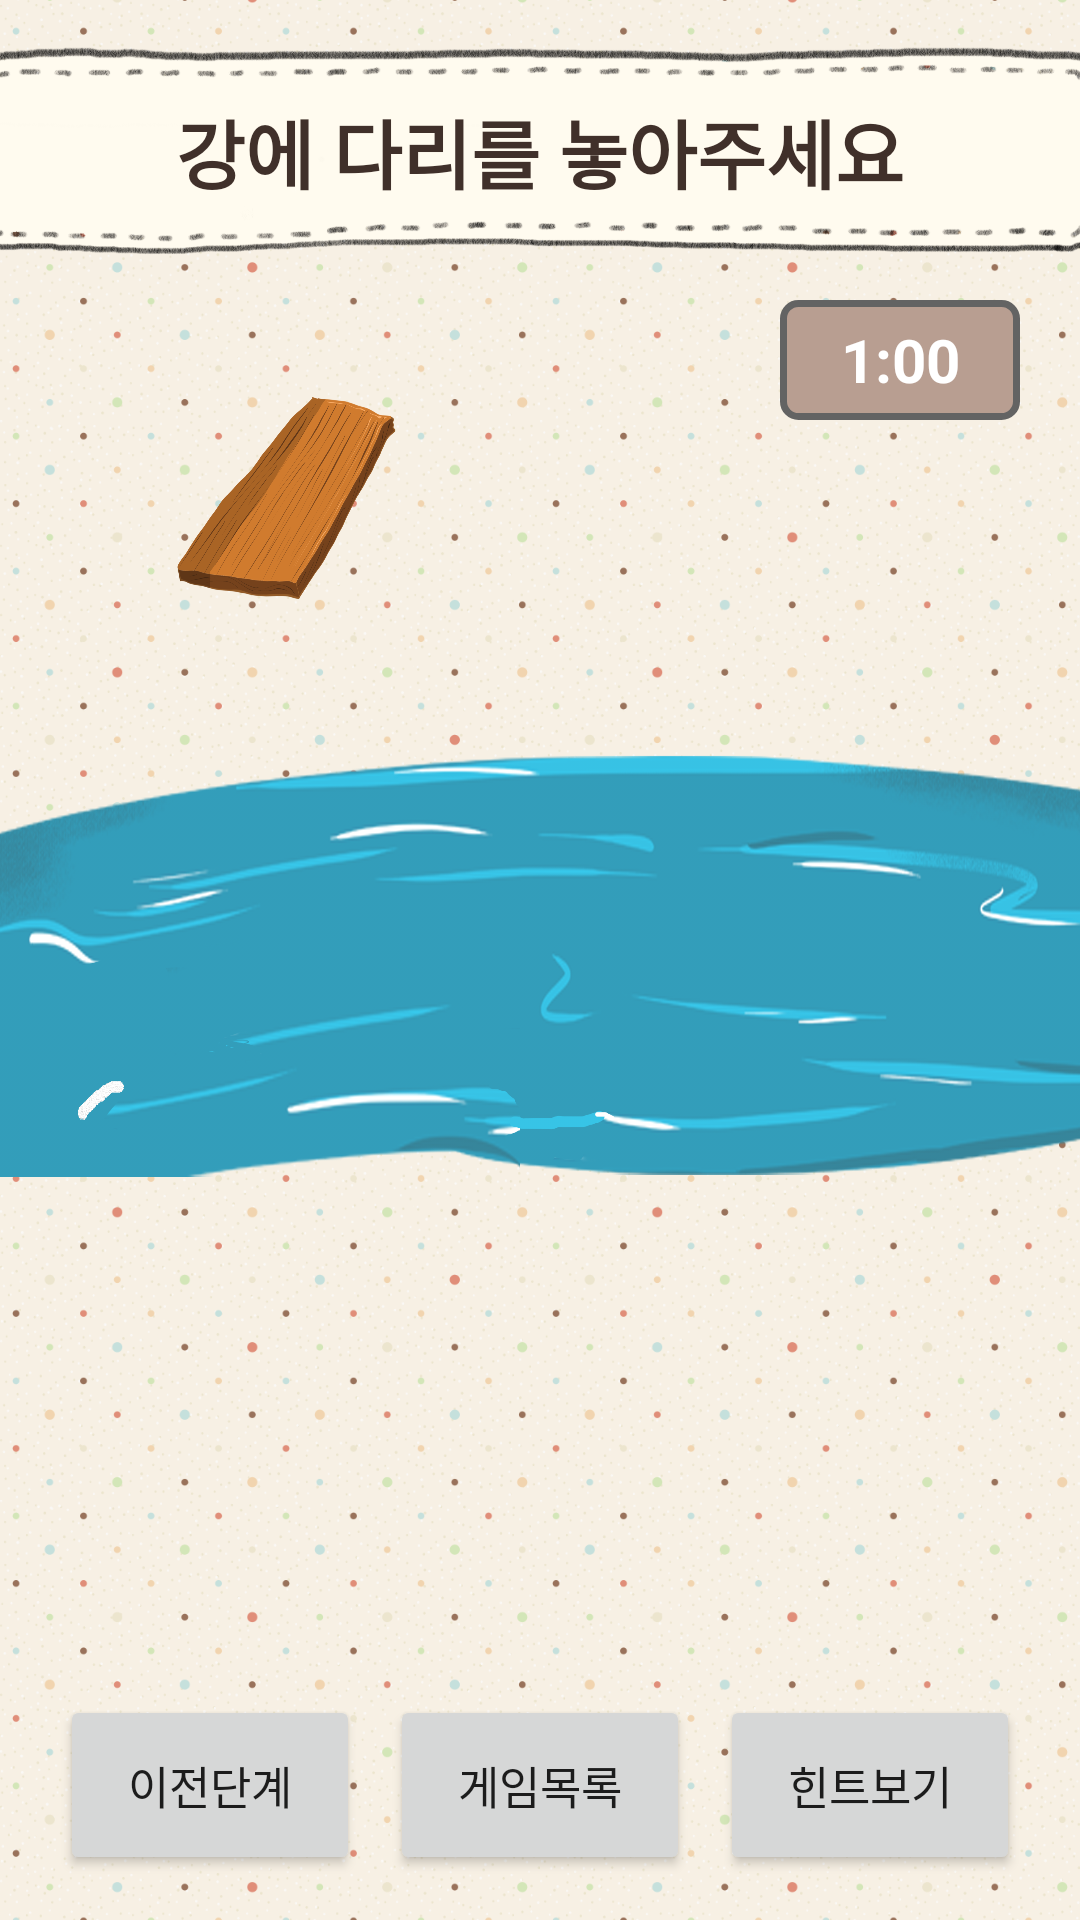

Screen size 1080*1920. Icon name, then its center in pixels as (x=x, y=y):
treeboard: (x=285, y=487)
